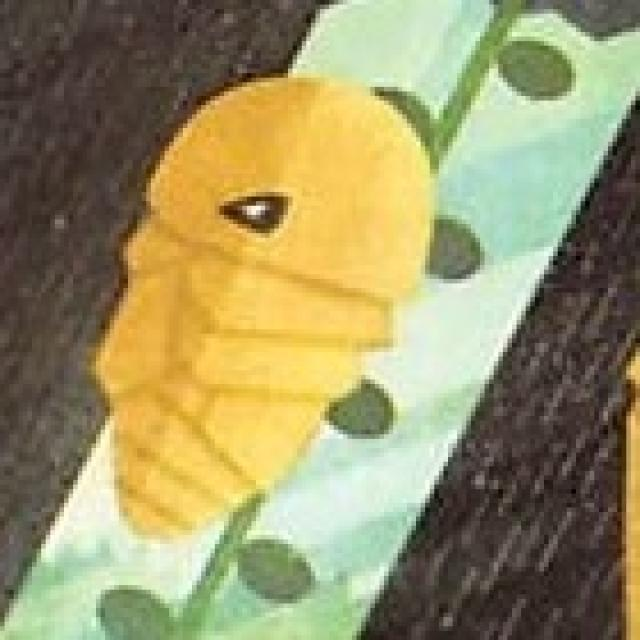Kakuna: (93, 74, 434, 534)
